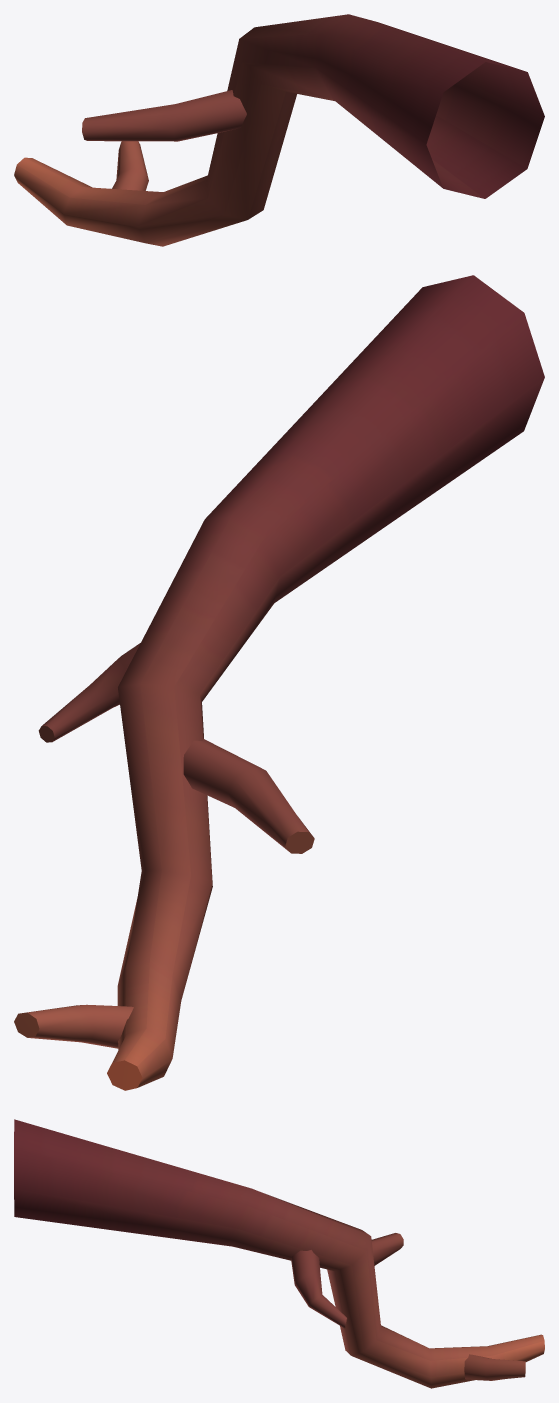
File: Tree 06.FBX
The picture shows the model from 3 angles, top to bottom: view 1: azimuth 30°, elevation 25°; view 2: azimuth 150°, elevation 25°; view 3: azimuth 270°, elevation 25°; orthographic projection. The views are drawn at different scales.
Parts seen in each view (by area): view 1: Tree 06; view 2: Tree 06; view 3: Tree 06.
Part boxes in pixels (x1=…): Tree 06: x1=14, y1=14, x2=544, y2=246; Tree 06: x1=14, y1=275, x2=544, y2=1090; Tree 06: x1=14, y1=1119, x2=544, y2=1388.
Size of the model in its own units: 114 by 287 by 167.
Materials: 1 (1 with a texture image).
